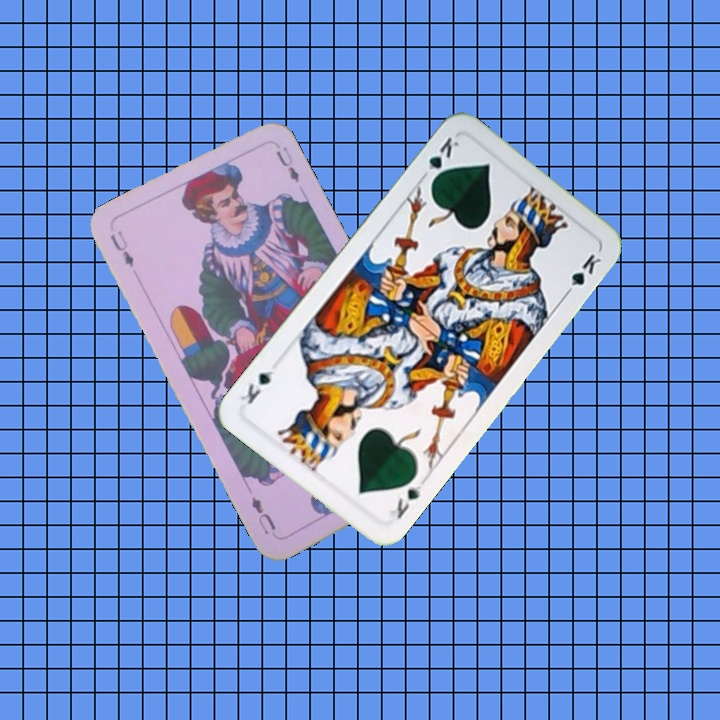EU: (106, 227, 137, 270)
GK: (417, 132, 462, 187), (383, 475, 427, 522)
